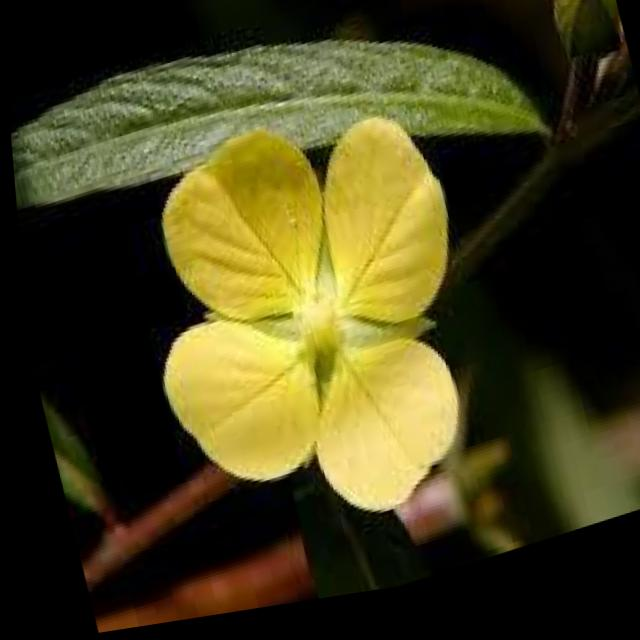Flower: (103, 83, 520, 574)
